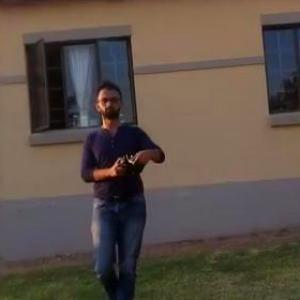follow: (74, 65, 170, 299)
